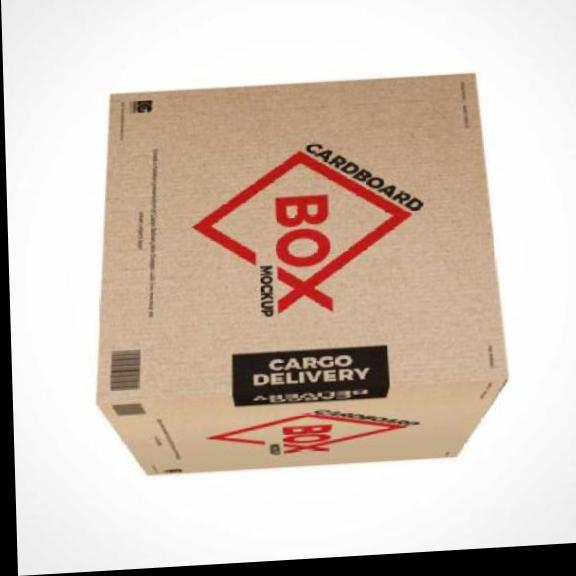Kertas: (96, 73, 507, 475)
